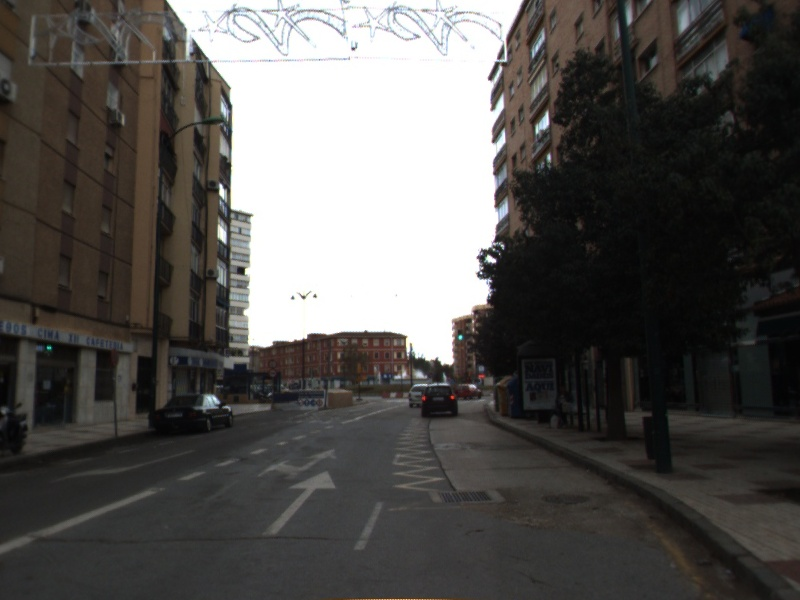STRAIGHT: (258, 469, 339, 539)
STRAIGHT_LEFT: (256, 446, 339, 482)
